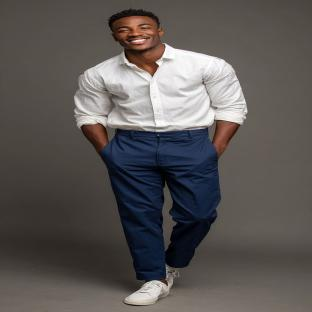Human: (74, 8, 247, 305)
